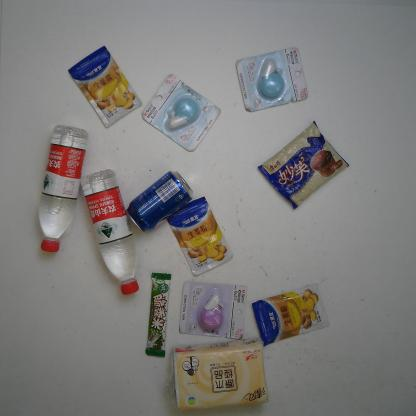Chocolate: (142, 271, 173, 358)
Dessert: (255, 118, 352, 211)
Drink: (78, 167, 142, 297), (36, 124, 89, 255), (124, 167, 195, 234)
Seasoner: (66, 42, 144, 129), (164, 195, 233, 276), (249, 282, 331, 348)
Stationery: (140, 73, 222, 153), (233, 44, 309, 114), (178, 279, 248, 342)
Tissue: (168, 336, 272, 412)
